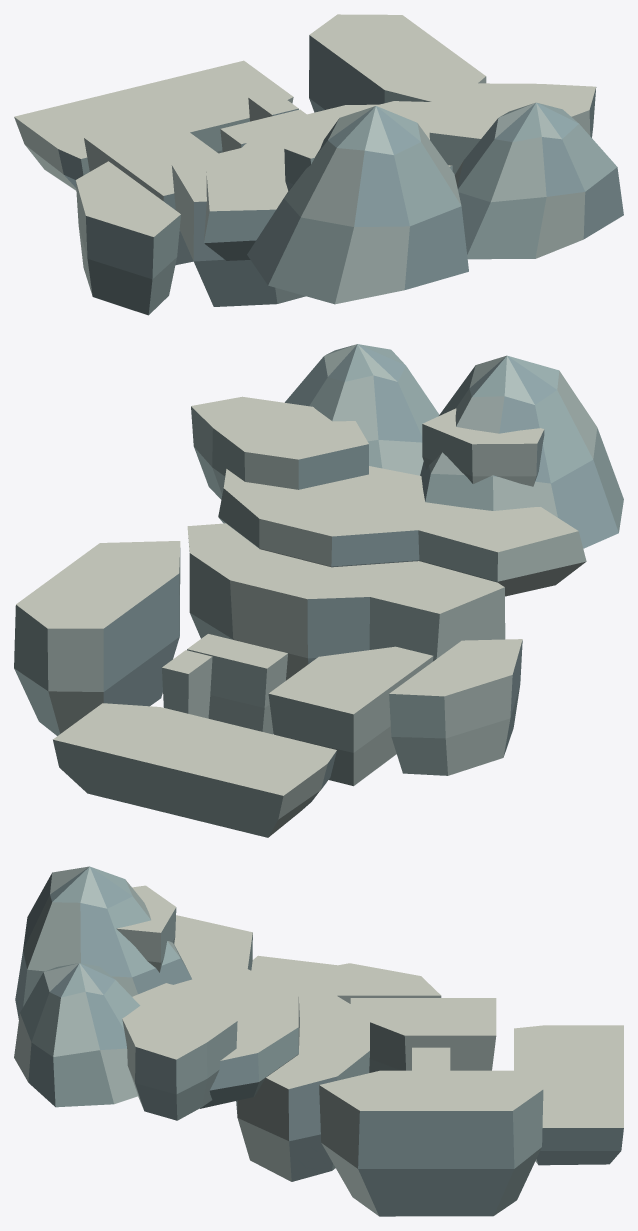
Rendered from WaterCourt_MountainWhitebox.fbx.
3 renders of one model, top to bottom at view 1: azimuth 30°, elevation 25°; view 2: azimuth 150°, elevation 25°; view 3: azimuth 270°, elevation 25°, orthographic. The views are drawn at different scales.
Visible parts, largest first — view 1: 10_Summit_east_peak_20m, 11_Back_west_peak_17m, 01_Entry_rock_shelf_below_yard, 05_West_outer_crag_6m, 06_East_outer_shoulder_3m, 07_Back_court_cliff_6m, 08_Upper_paperworks_terrace_9m, 09_West_wind_shelf_12m, 02_Receiver_rock_buttress_east, 12_Summit_garden_shelf_15m, 03_North_landing_rock_buttress, 04_West_return_rock_buttress; view 2: 07_Back_court_cliff_6m, 08_Upper_paperworks_terrace_9m, 01_Entry_rock_shelf_below_yard, 05_West_outer_crag_6m, 10_Summit_east_peak_20m, 06_East_outer_shoulder_3m, 09_West_wind_shelf_12m, 02_Receiver_rock_buttress_east, 11_Back_west_peak_17m, 03_North_landing_rock_buttress, 12_Summit_garden_shelf_15m, 04_West_return_rock_buttress; view 3: 05_West_outer_crag_6m, 07_Back_court_cliff_6m, 11_Back_west_peak_17m, 10_Summit_east_peak_20m, 01_Entry_rock_shelf_below_yard, 08_Upper_paperworks_terrace_9m, 09_West_wind_shelf_12m, 02_Receiver_rock_buttress_east, 06_East_outer_shoulder_3m, 12_Summit_garden_shelf_15m, 03_North_landing_rock_buttress.
Boxes of the visible parts, x1,y1,x2,y2 form: 10_Summit_east_peak_20m: (247,106,468,304); 11_Back_west_peak_17m: (454,102,623,259); 01_Entry_rock_shelf_below_yard: (14,60,293,190); 05_West_outer_crag_6m: (309,14,486,112); 06_East_outer_shoulder_3m: (75,161,180,315); 07_Back_court_cliff_6m: (171,104,377,306); 08_Upper_paperworks_terrace_9m: (204,101,452,260); 09_West_wind_shelf_12m: (429,83,596,174); 02_Receiver_rock_buttress_east: (84,117,217,265); 12_Summit_garden_shelf_15m: (284,122,335,190); 03_North_landing_rock_buttress: (220,109,306,152); 04_West_return_rock_buttress: (248,91,298,121); 07_Back_court_cliff_6m: (187,523,505,680); 08_Upper_paperworks_terrace_9m: (218,466,586,596); 01_Entry_rock_shelf_below_yard: (53,703,336,837); 05_West_outer_crag_6m: (14,541,180,735); 10_Summit_east_peak_20m: (420,355,623,548); 06_East_outer_shoulder_3m: (389,639,522,775); 09_West_wind_shelf_12m: (191,396,368,499); 02_Receiver_rock_buttress_east: (268,646,433,786); 11_Back_west_peak_17m: (285,344,439,475); 03_North_landing_rock_buttress: (187,634,287,734); 12_Summit_garden_shelf_15m: (422,408,544,486); 04_West_return_rock_buttress: (162,650,212,718); 05_West_outer_crag_6m: (319,1070,543,1216); 07_Back_court_cliff_6m: (236,955,369,1181); 11_Back_west_peak_17m: (14,963,140,1107); 10_Summit_east_peak_20m: (15,866,191,1019); 01_Entry_rock_shelf_below_yard: (514,1025,623,1165); 08_Upper_paperworks_terrace_9m: (174,915,299,1108); 09_West_wind_shelf_12m: (122,983,237,1120); 02_Receiver_rock_buttress_east: (350,998,496,1072); 06_East_outer_shoulder_3m: (337,963,441,1003); 12_Summit_garden_shelf_15m: (116,885,176,972); 03_North_landing_rock_buttress: (412,1047,450,1070).
Bounding box in the file's own units: 43 × 26 × 59.83.
